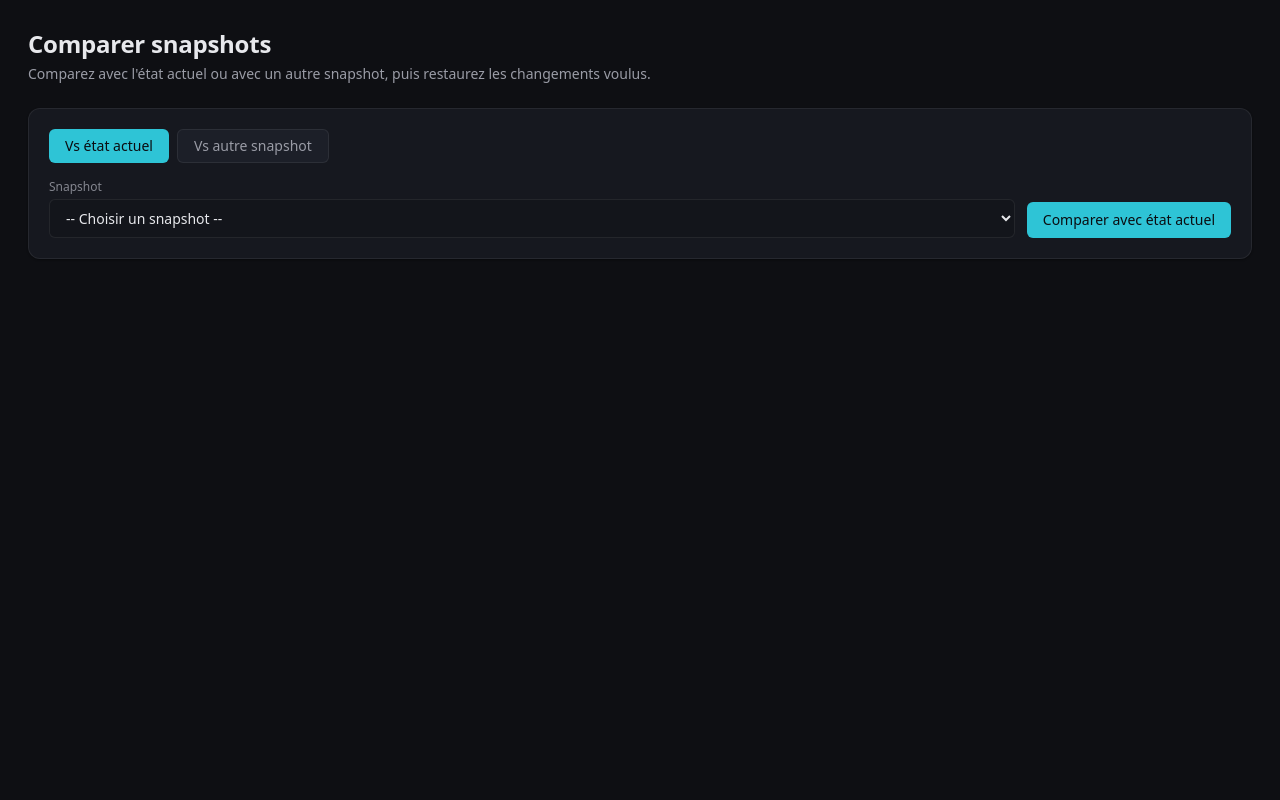
it: SnapshotComparePage › clicking compare without selection shows warning toast
Click the button "Comparer avec état actuel": (1129, 220) [1027, 202, 1231, 238]
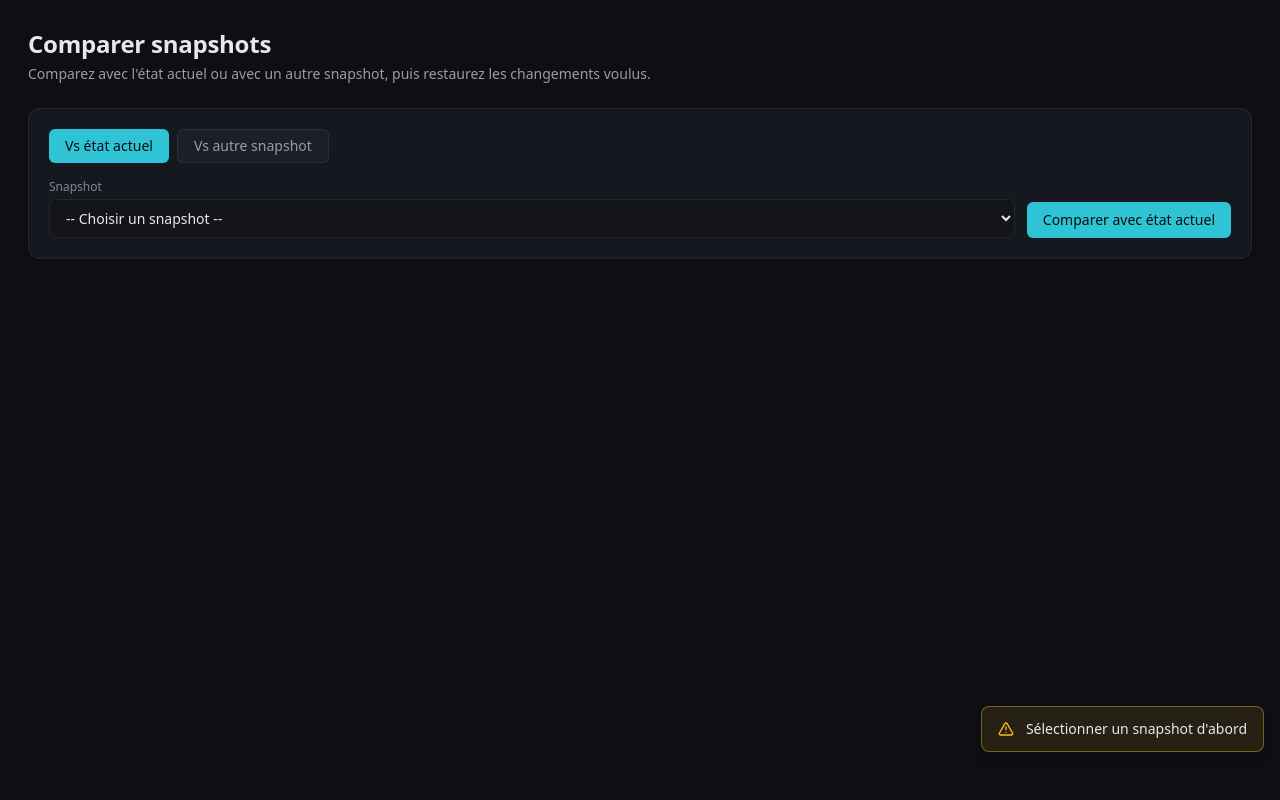
Check: the text "Sélectionner un snapshot d'abord" is shown, box [1026, 719, 1247, 739]
